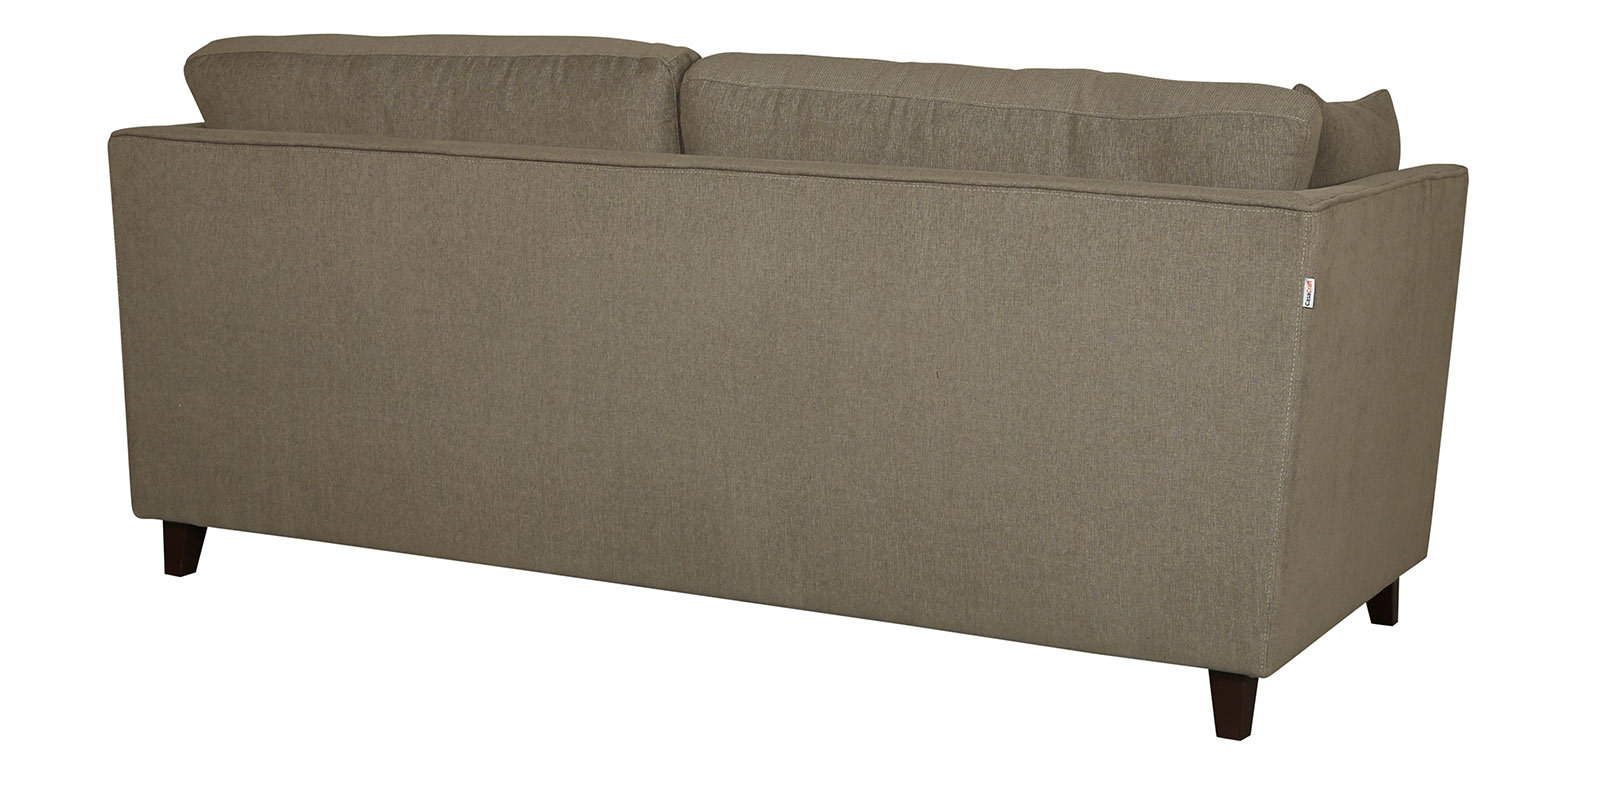Miranda Three Seater Sofa in Sandy Brown Colour by CasaCraft: (107, 29, 1469, 742)
